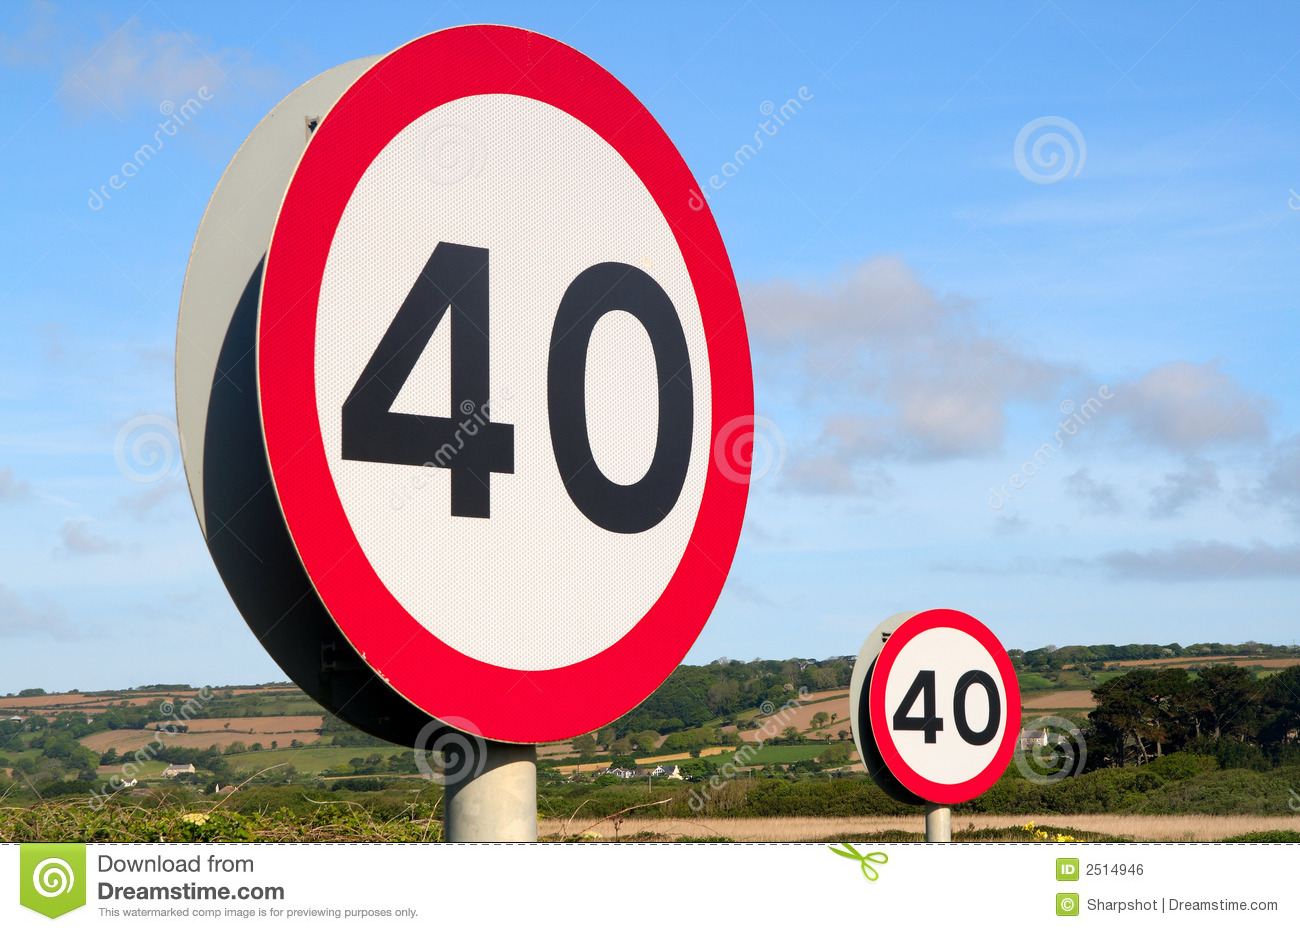Speed_limit_40km: (249, 25, 753, 735), (857, 596, 1031, 810)
